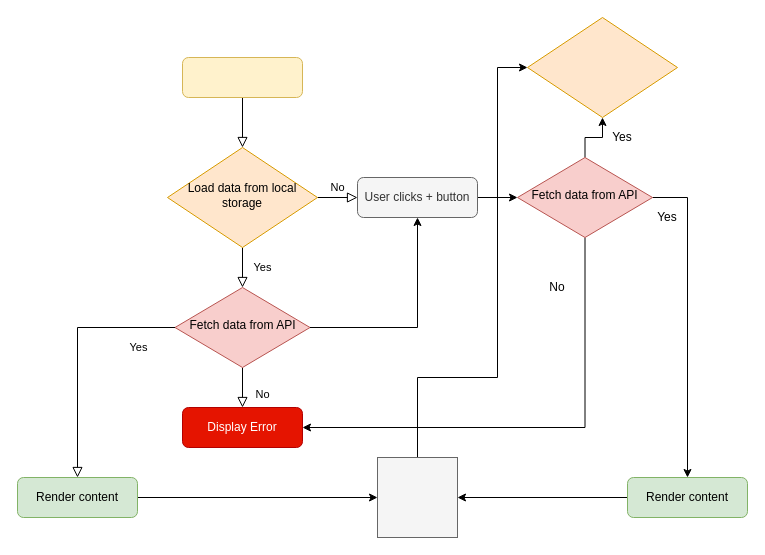
Image size: 765x555. Some labels were removed from this diagram. Here are the shapes that lost their labels. From the top down, the box of each, then its label:
(182, 56, 302, 98): Page loads
(526, 16, 678, 118): Store data to local storage
(376, 456, 458, 538): User edits and modifies data
